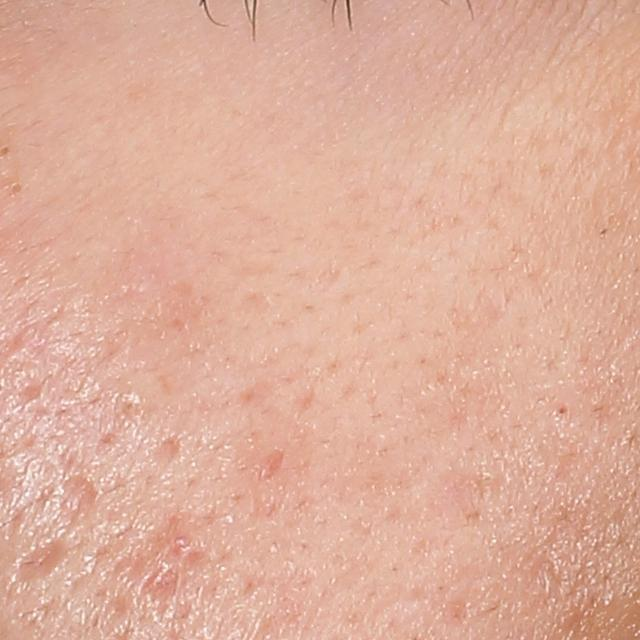atrophic_scar: (96, 508, 212, 626), (243, 443, 300, 500), (11, 538, 78, 584), (140, 428, 180, 476)
comedo: (2, 177, 25, 201)
